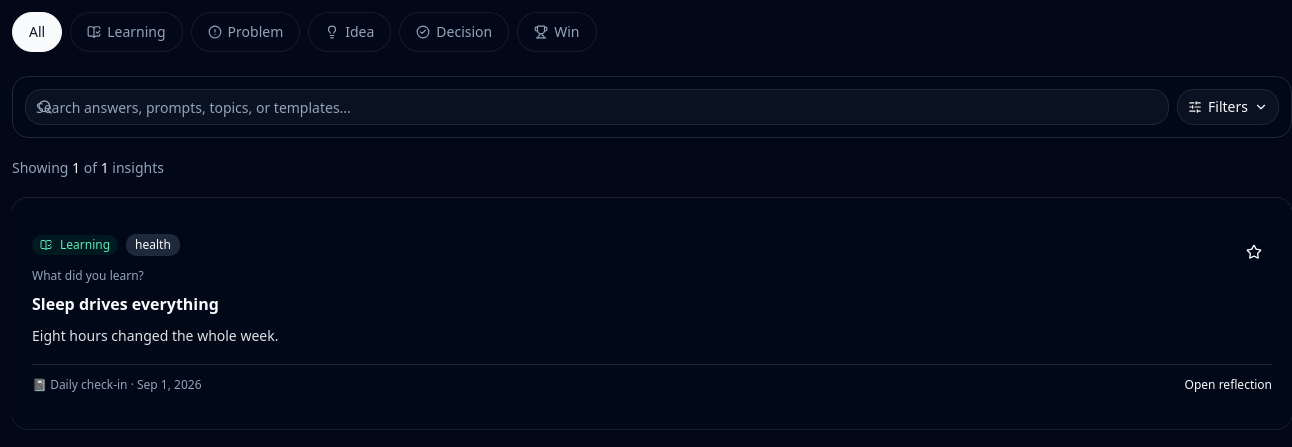
JournalInsights filters › offers a reset only when there is something to reset
Expected: the button "reset" is not shown
Type "sleep" into the search field at (597, 107), box top-left (25, 89), bottom-right (1169, 125)
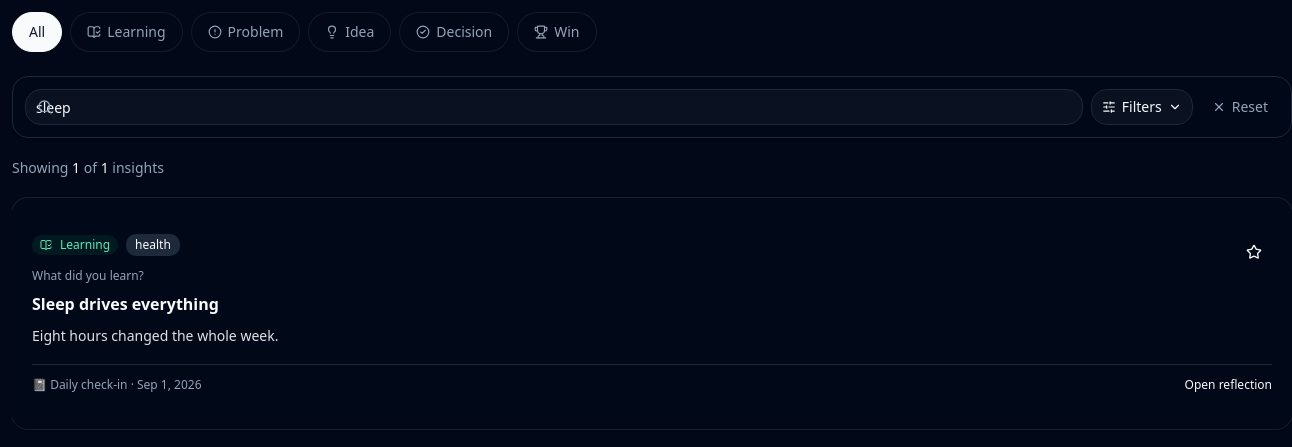
Now the button "Reset" is shown, box top-left (1201, 89), bottom-right (1279, 125)
